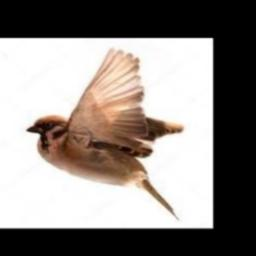Sparrow: (27, 47, 183, 220)
